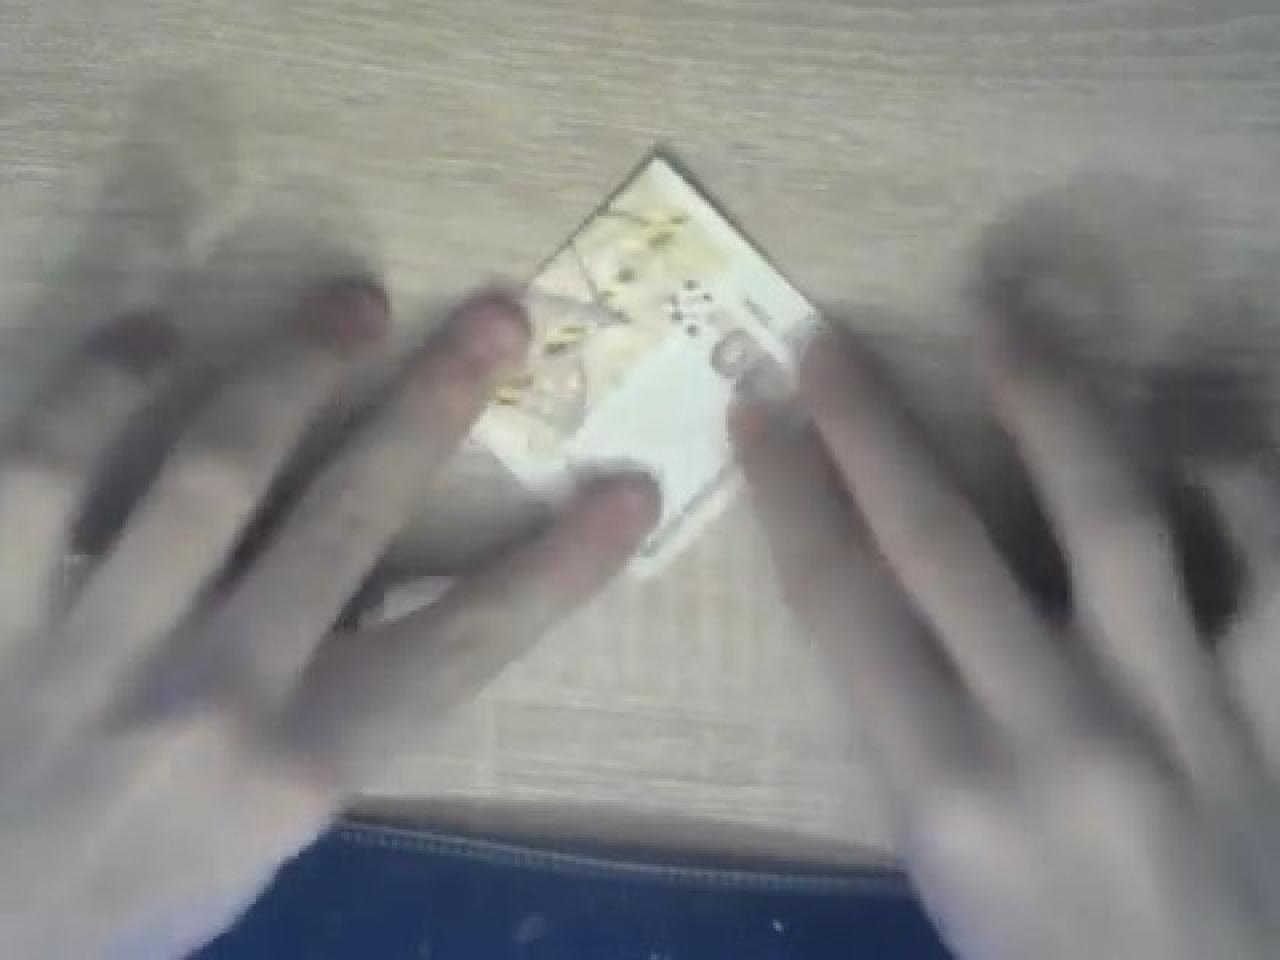10leva: (470, 146, 829, 574)
